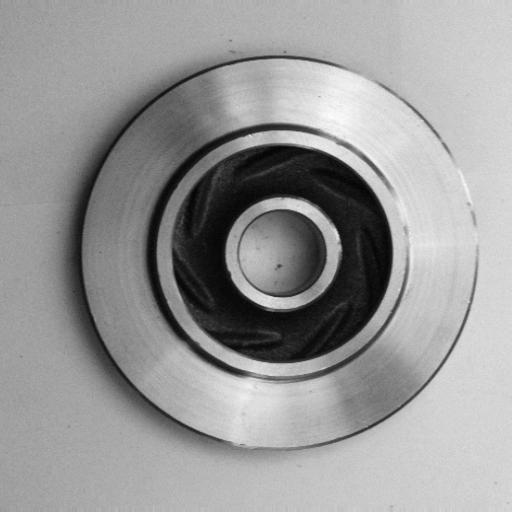scratch: (447, 164, 495, 262), (375, 178, 420, 260)
unpolished_casting: (77, 52, 482, 459)
